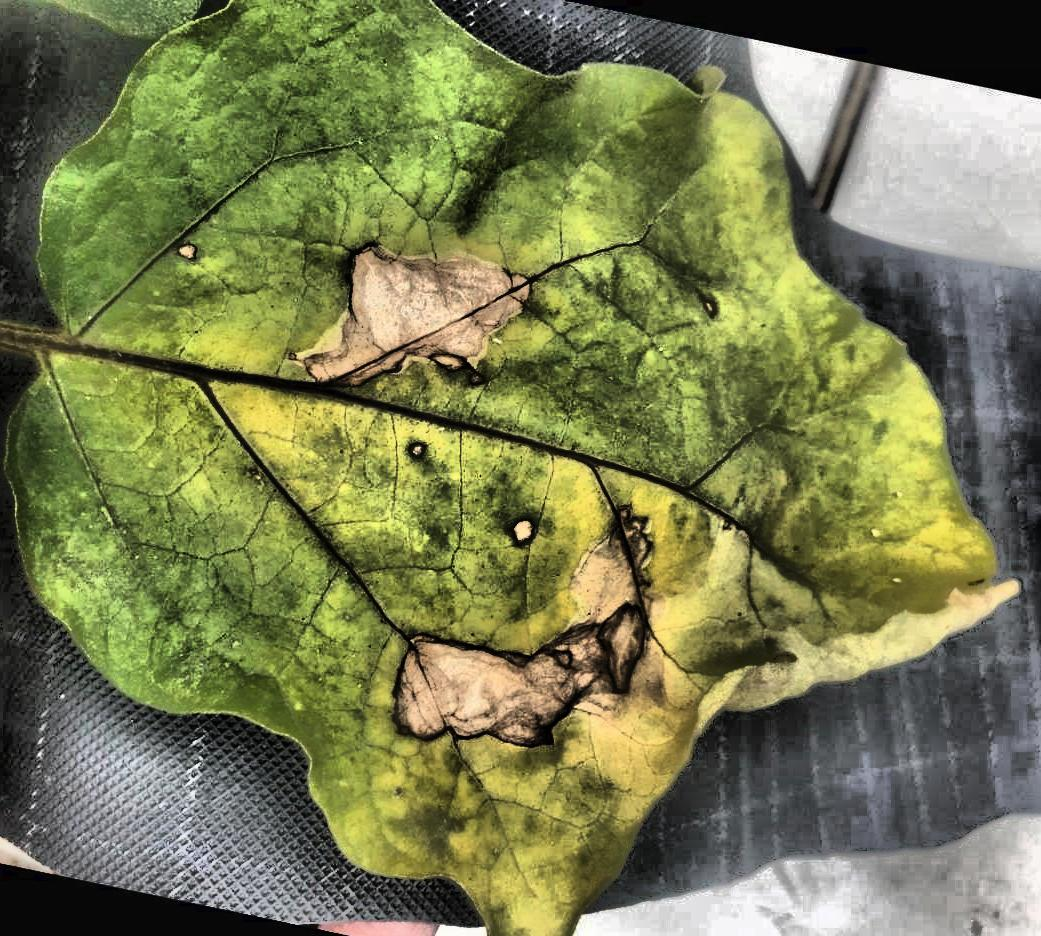Critical Stress: (1, 0, 1041, 936)
